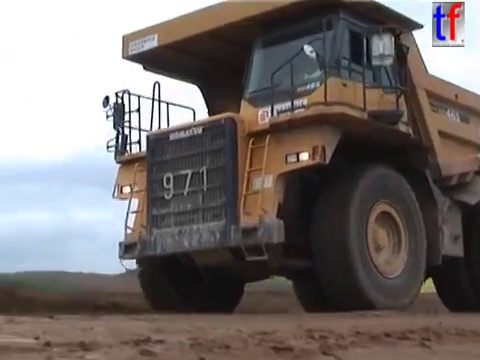truck: (100, 1, 480, 316)
